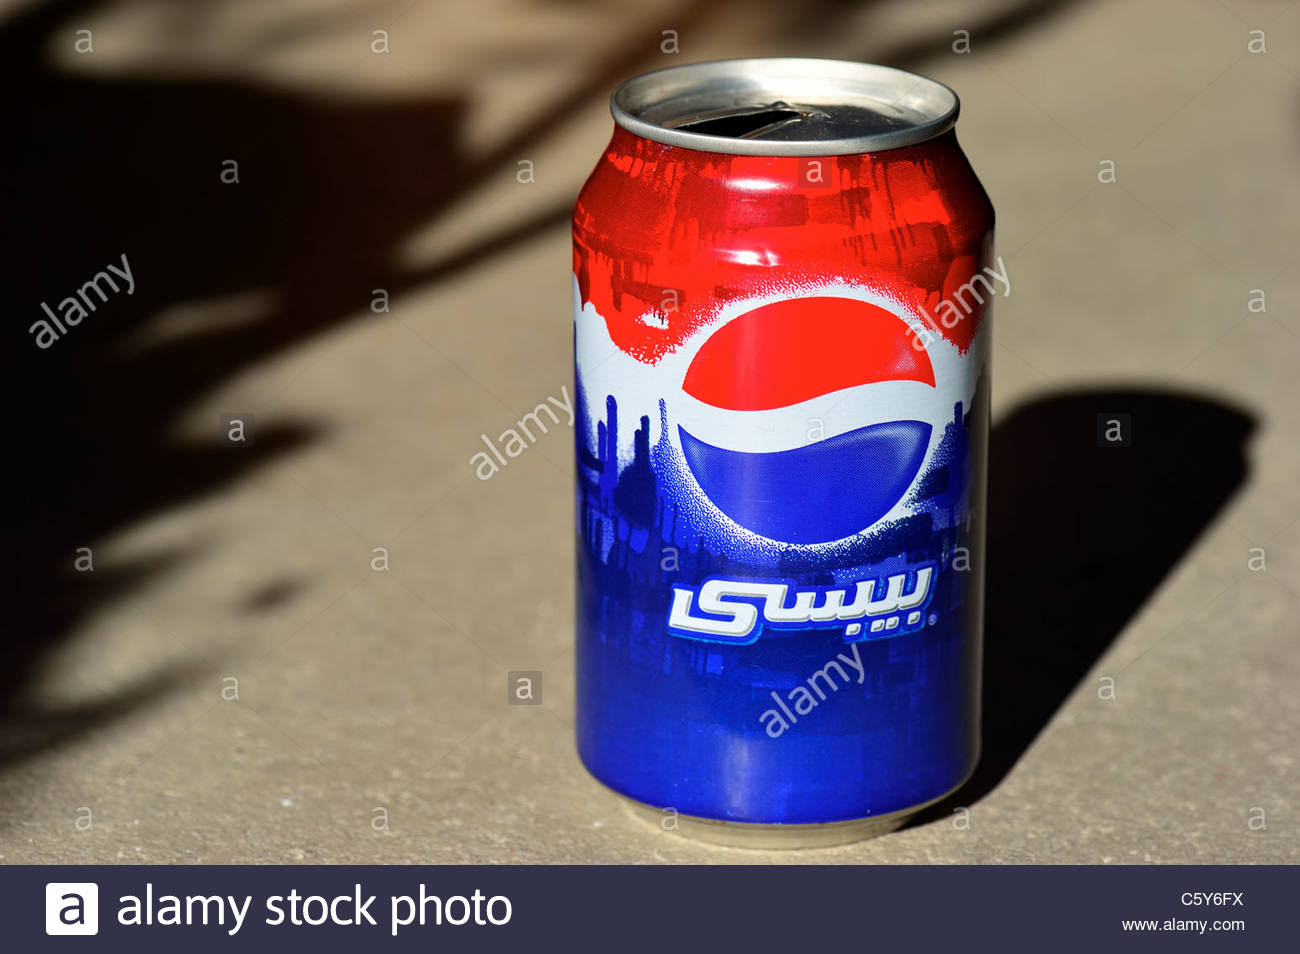pepsi: (678, 293, 954, 543), (678, 303, 954, 543), (678, 293, 937, 543)
